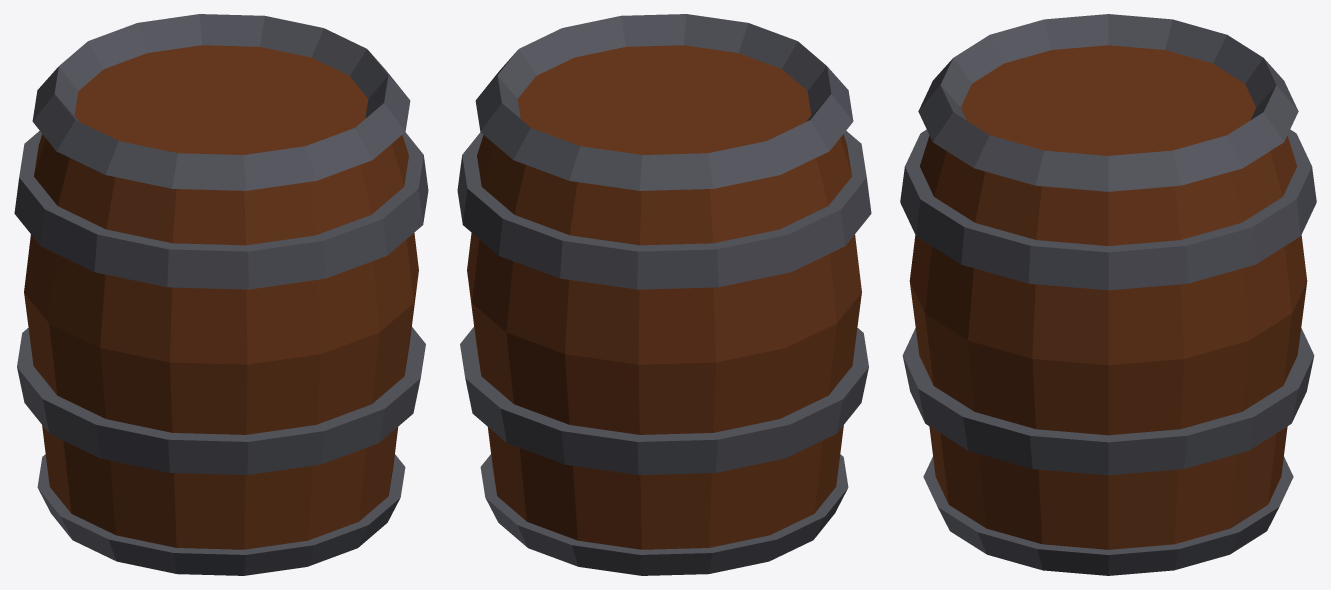
The model's file is barril.glb.
The picture shows the model from 3 angles, left to right: view 1: azimuth 30°, elevation 25°; view 2: azimuth 150°, elevation 25°; view 3: azimuth 270°, elevation 25°; orthographic projection.
Visible parts, largest first — view 1: Circle; view 2: Circle; view 3: Circle.
Part boxes in pixels (x1,y1,x2,y2): Circle: (14, 14, 428, 575); Circle: (457, 14, 871, 575); Circle: (900, 14, 1316, 575).
Size of the model in its own units: 2.43 by 2.69 by 2.43.
